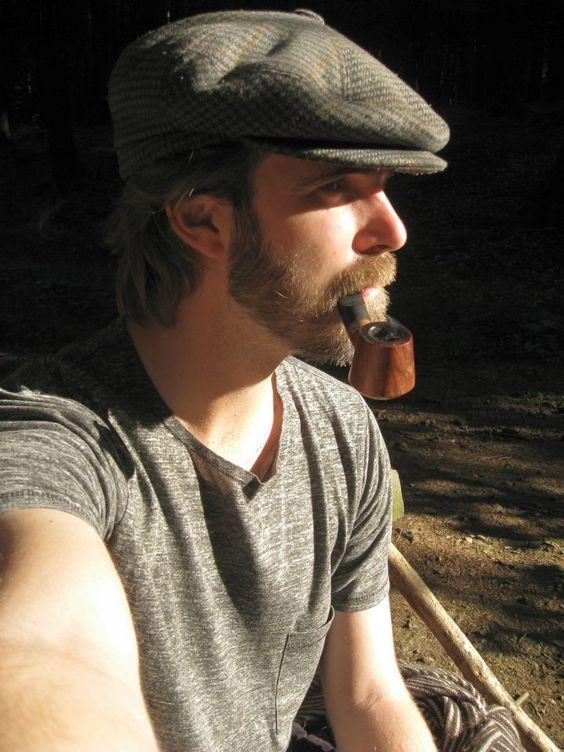trubka: (339, 293, 415, 399)
